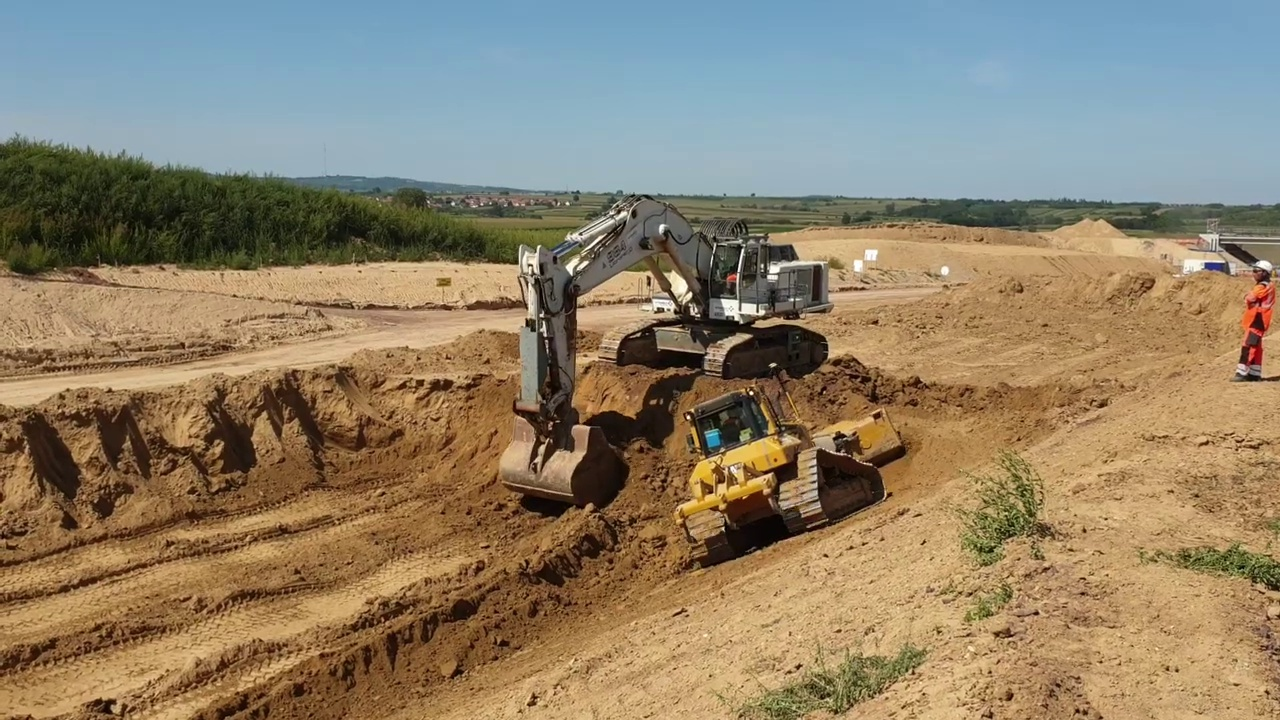bulldozer: (666, 358, 915, 564)
excavator: (495, 190, 835, 514)
worker: (1230, 255, 1277, 389)
